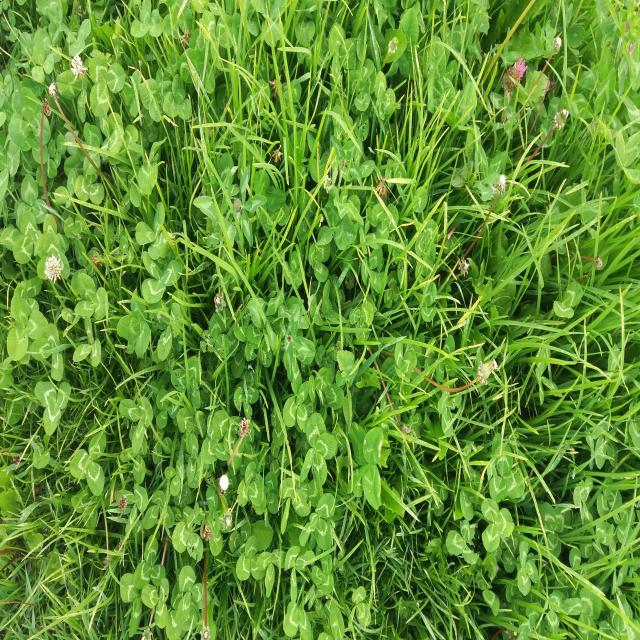Four Leaf Clover: (300, 412, 337, 486)
